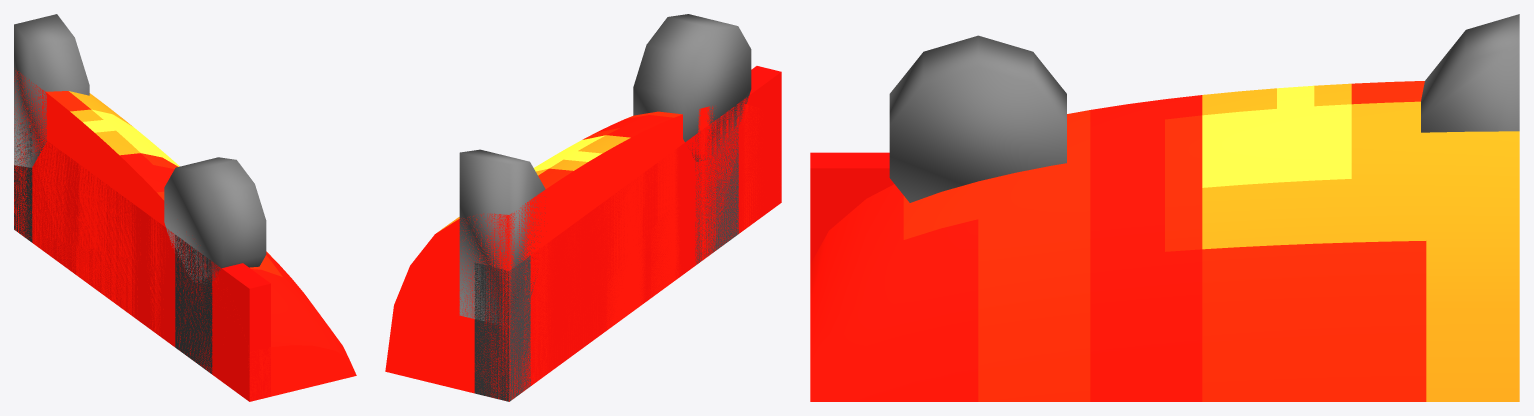
File: newsha-269-f3.glb
3 renders of one model, left to right at view 1: azimuth 30°, elevation 25°; view 2: azimuth 150°, elevation 25°; view 3: azimuth 270°, elevation 25°, orthographic. The views are drawn at different scales.
Visible parts, largest first — view 1: newsha-269-f3; view 2: newsha-269-f3; view 3: newsha-269-f3.
Part boxes in pixels (bbox=[...]): newsha-269-f3: bbox=[14, 14, 356, 401]; newsha-269-f3: bbox=[385, 14, 781, 401]; newsha-269-f3: bbox=[810, 14, 1519, 401].
Size of the model in its own units: 0.4167 by 0.7615 by 1.58.
